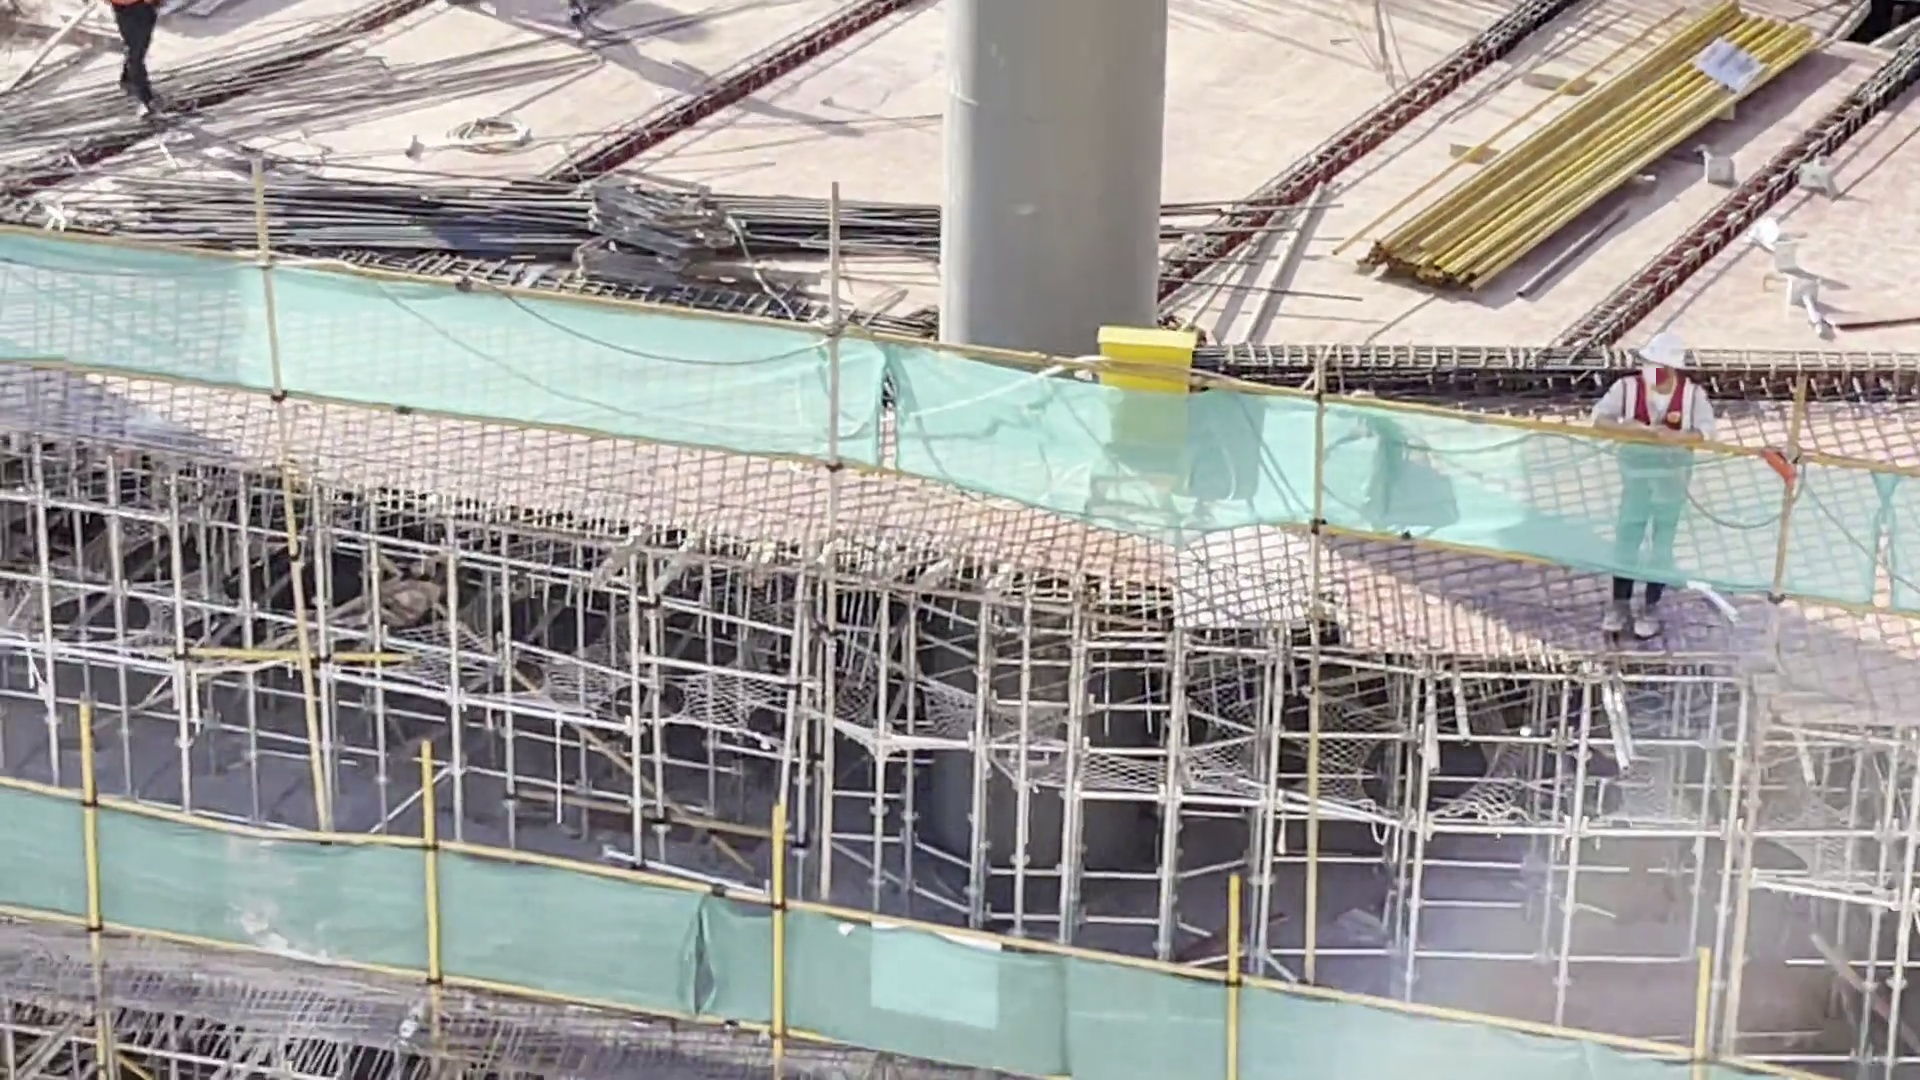ebox: (1091, 315, 1208, 475)
helmet: (1633, 337, 1705, 381)
person: (1592, 326, 1732, 641)
vest: (1616, 381, 1698, 505)
